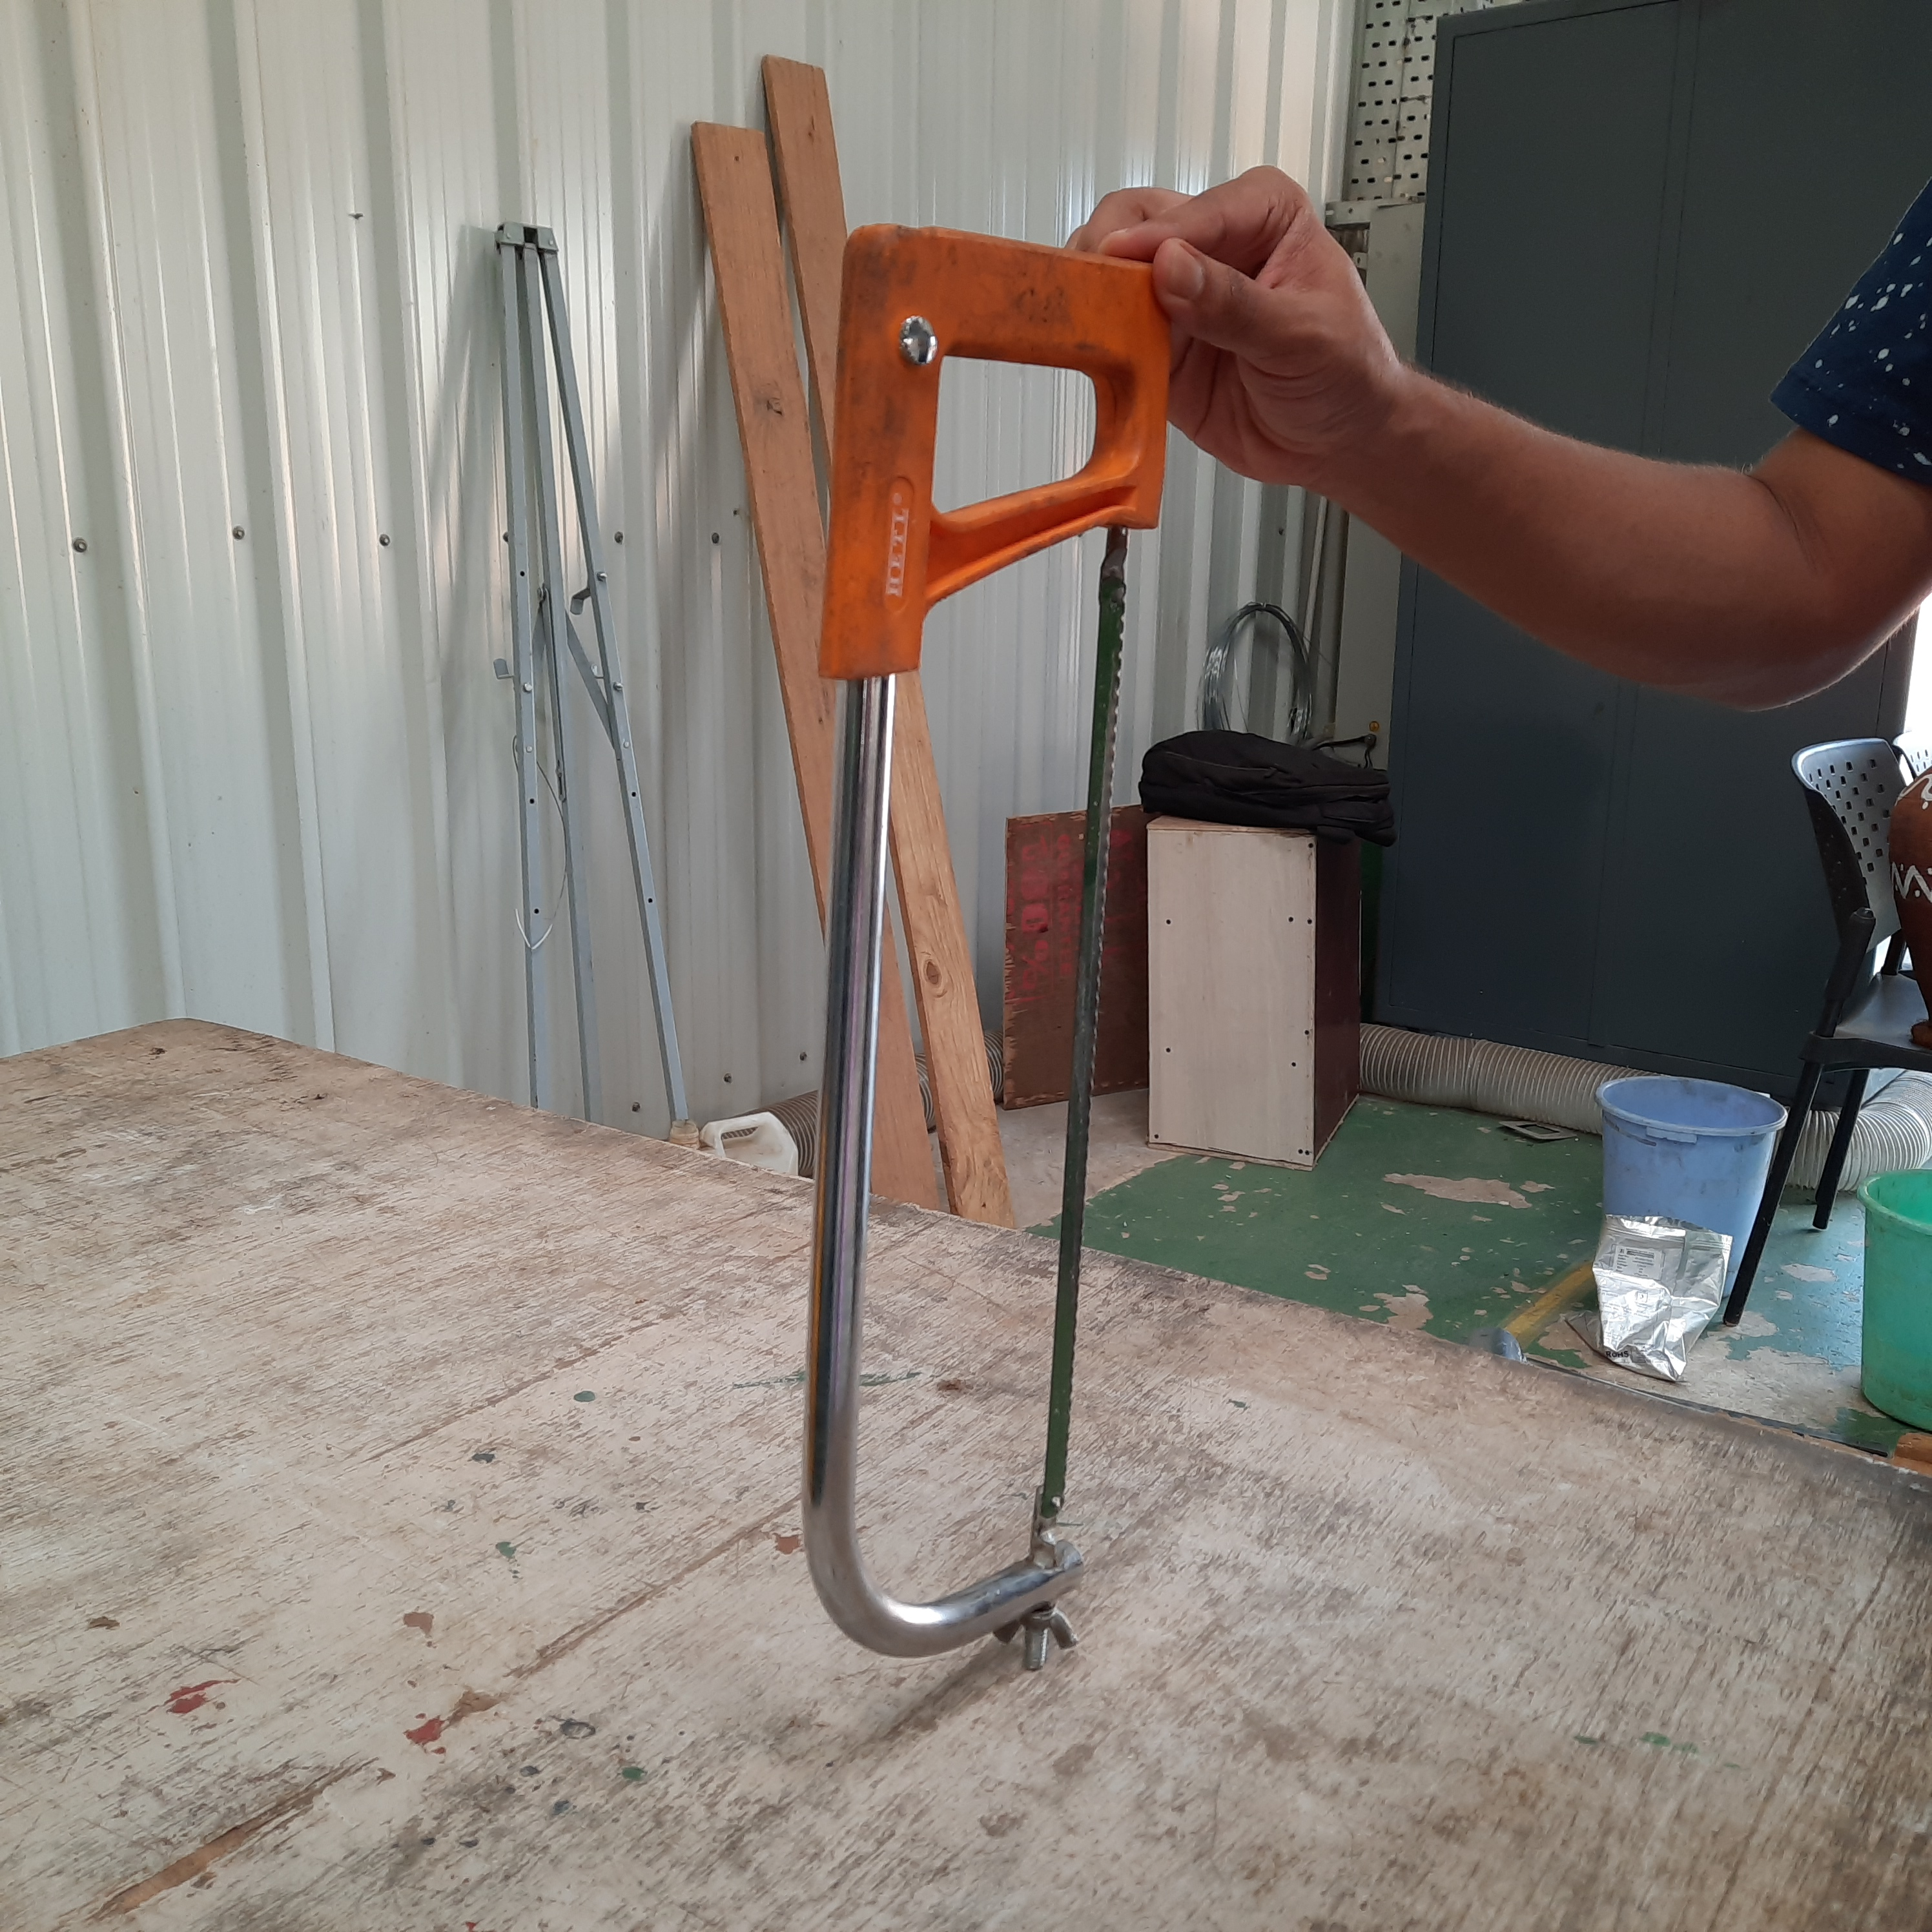Hexaframe: (809, 216, 1196, 1668)
